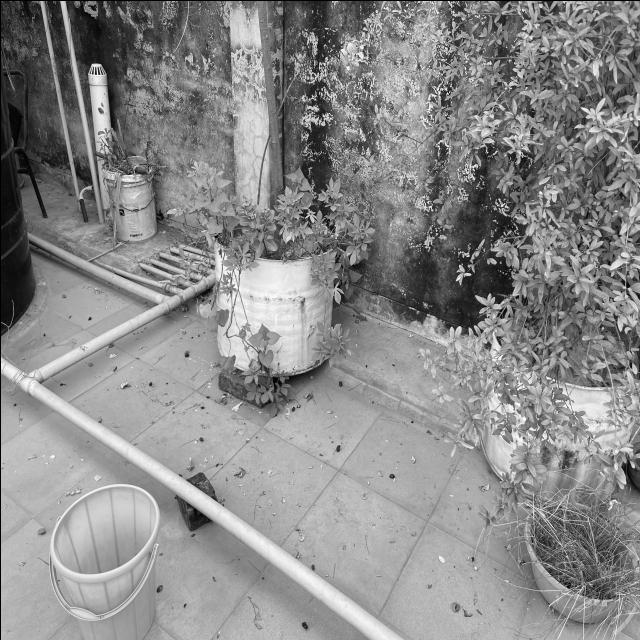Breeding Place: (479, 317, 640, 489), (210, 206, 342, 376), (56, 483, 158, 640), (520, 502, 640, 630), (96, 157, 156, 247)
